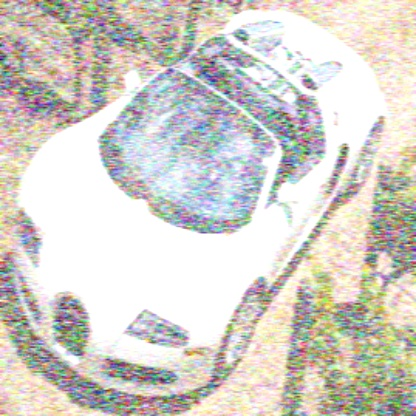Vehicle: (12, 10, 387, 398)
